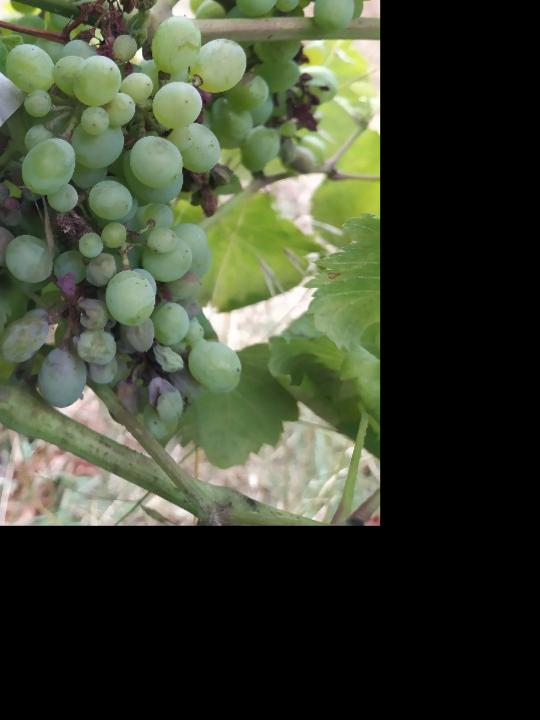grape: (0, 0, 254, 434), (195, 0, 379, 174)
